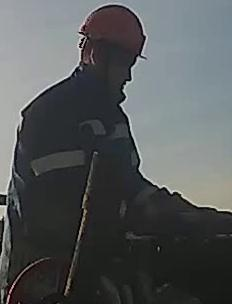helmet: (77, 2, 147, 59)
vest: (3, 66, 142, 275)
